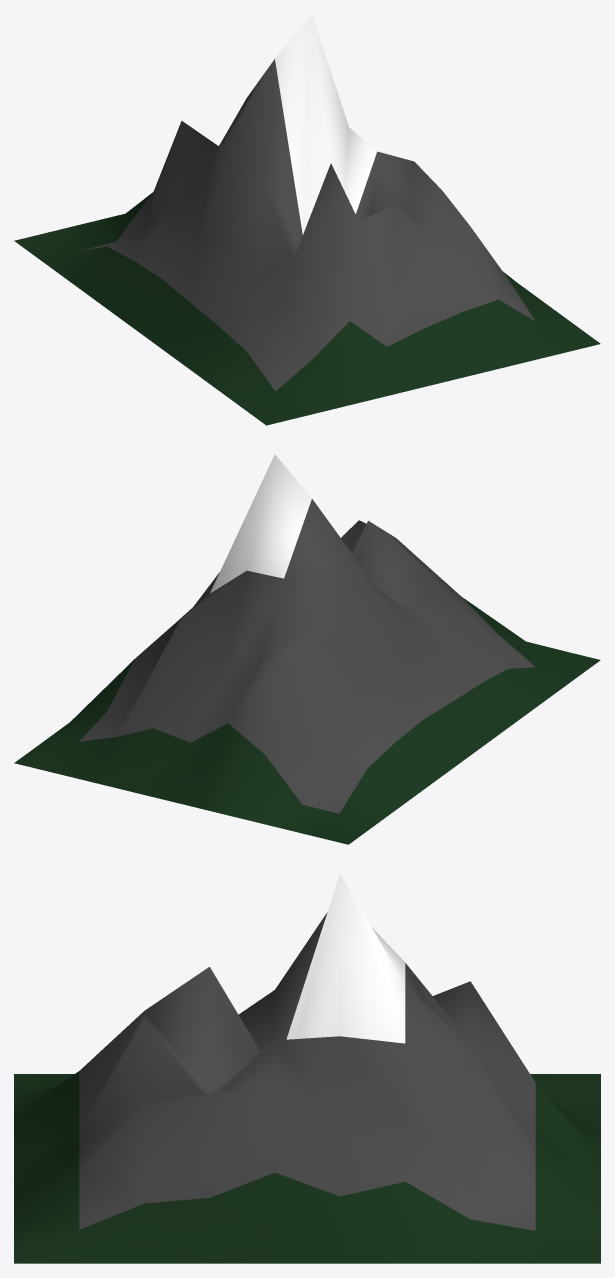
File: mountain.v3.fbx
3 views of the same model, one above another, from view 1: azimuth 30°, elevation 25°; view 2: azimuth 150°, elevation 25°; view 3: azimuth 270°, elevation 25° (orthographic). The views are drawn at different scales.
Parts seen in each view (by area): view 1: Landscape.001; view 2: Landscape.001; view 3: Landscape.001.
Boxes of the visible parts, box(x1,y1,x2,y2) form: Landscape.001: box(14, 15, 600, 425); Landscape.001: box(14, 454, 600, 844); Landscape.001: box(14, 873, 600, 1263).
Size of the model in its own units: 3760 by 2826 by 4914.
